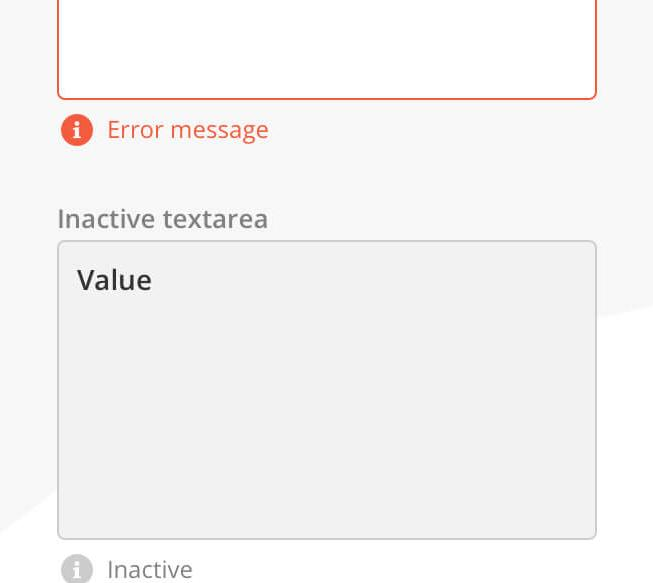field: (54, 236, 598, 544)
field_with_label: (49, 205, 605, 552)
